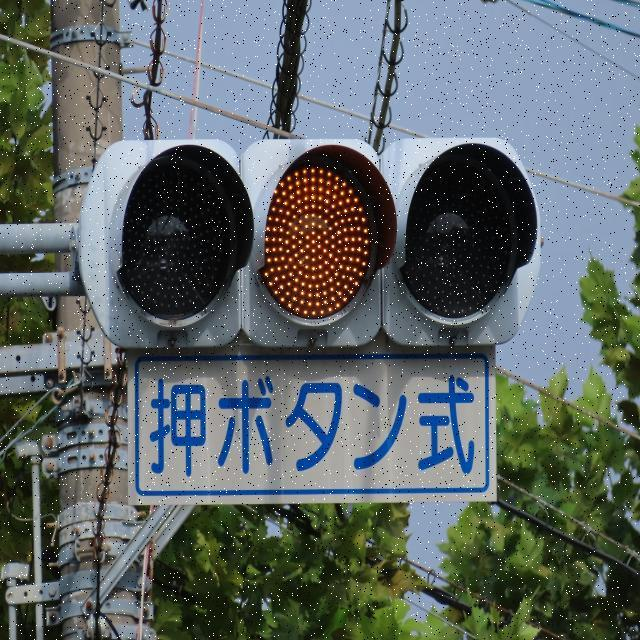yellow_light: (258, 152, 380, 334)
